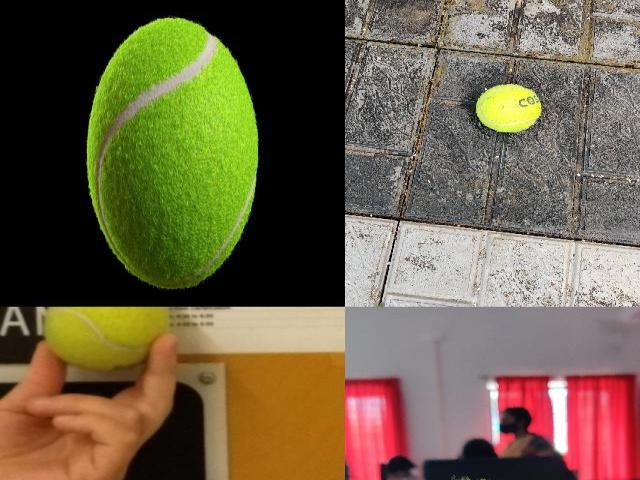tennis-ball: (86, 17, 260, 290), (42, 306, 171, 370), (475, 82, 541, 132)
